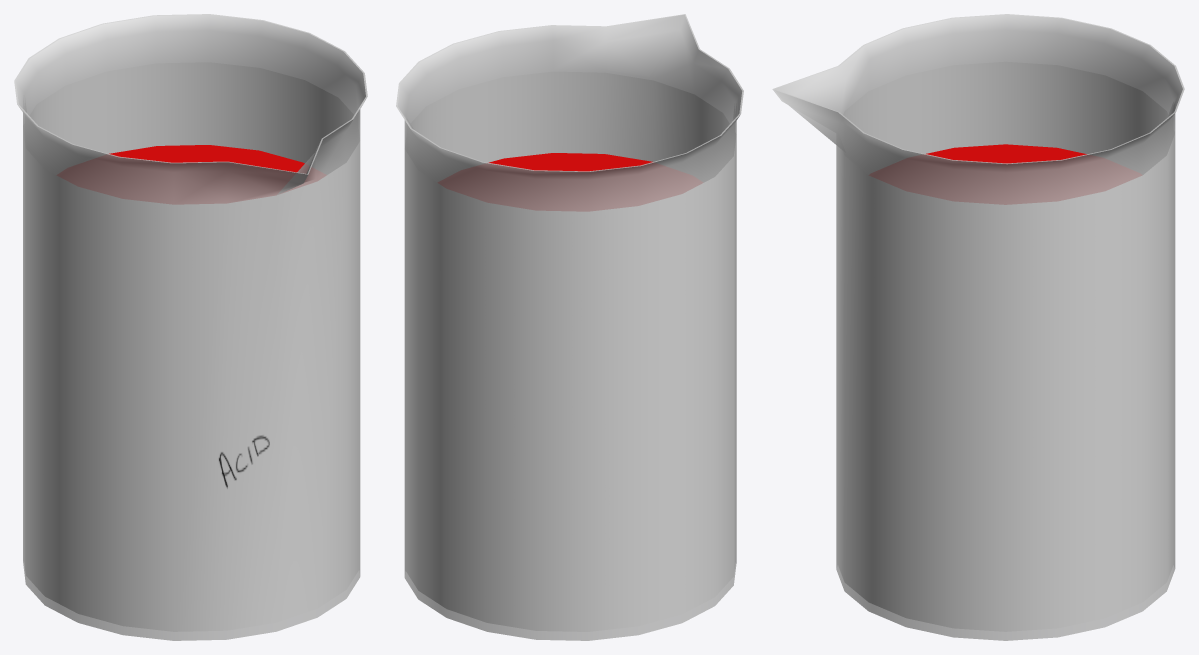
File: 100ml_beaker_w_texture.fbx
3 views of the same model, side by side, from view 1: azimuth 30°, elevation 25°; view 2: azimuth 150°, elevation 25°; view 3: azimuth 270°, elevation 25° (orthographic).
Visible parts, largest first — view 1: polySurface2, pCylinder1; view 2: polySurface2, pCylinder1; view 3: polySurface2, pCylinder1.
Part boxes in pixels (box(x1,y1,x2,y2)): polySurface2: box(14, 14, 367, 640); pCylinder1: box(109, 145, 304, 172); polySurface2: box(396, 14, 743, 640); pCylinder1: box(489, 153, 652, 171); polySurface2: box(772, 14, 1184, 640); pCylinder1: box(926, 144, 1086, 163).
Bounding box in the file's own units: 1.89 × 2.81 × 2.19.
Materials: 3 (1 with a texture image).
